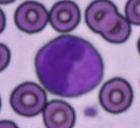M: (34, 34, 104, 96)
